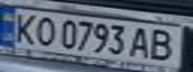0: (54, 16, 78, 50)
3: (106, 22, 130, 56)
7: (75, 18, 93, 52)
9: (90, 20, 112, 54)
A: (127, 25, 157, 60)
B: (145, 26, 184, 62)
K: (6, 10, 42, 45)
O: (30, 15, 57, 47)
